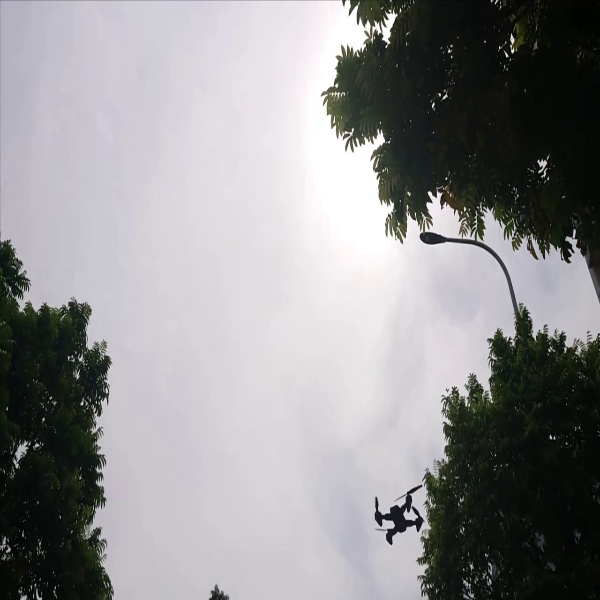drone: (368, 480, 429, 547)
